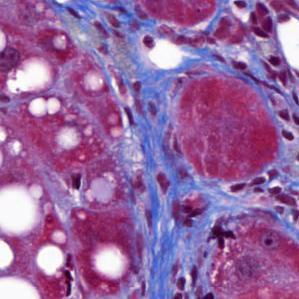inflammation: (245, 1, 280, 39), (203, 220, 240, 252)
